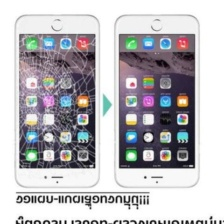phone: (110, 11, 203, 191), (12, 10, 103, 190)
